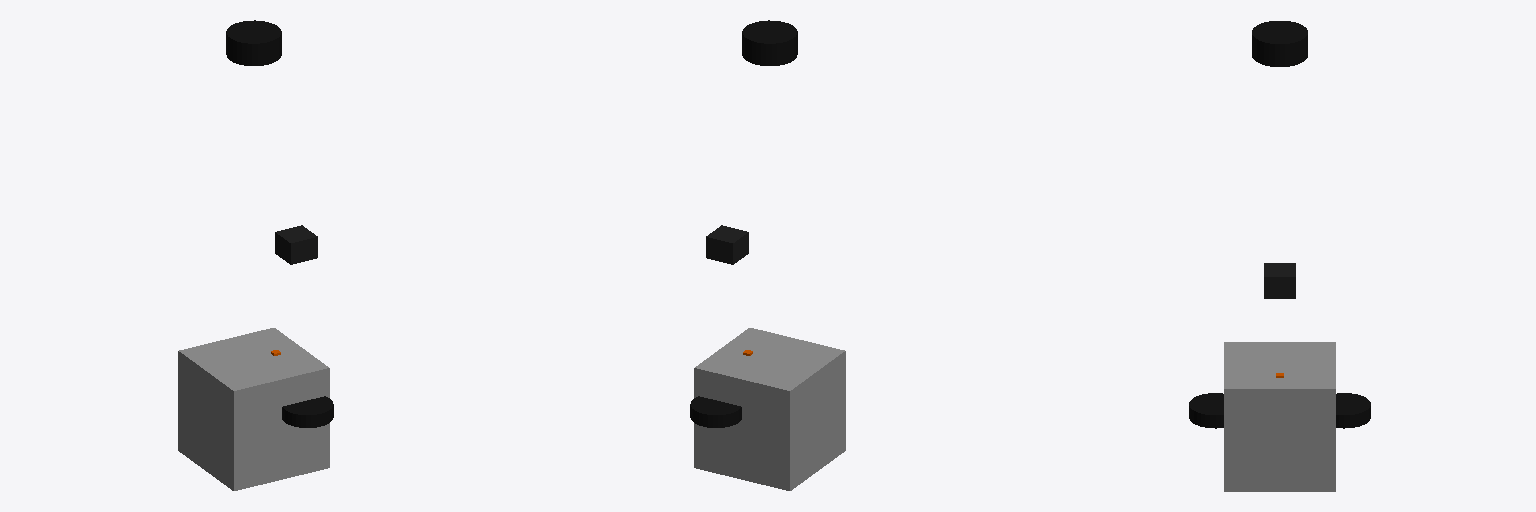
The robot description file, URDF, robot "turtlebot3_burger_bev":
<?xml version="1.0"?>
<!--
  TurtleBot3 Burger with a 6-camera BEV rig for autosim.

  Camera joints are fixed to base_link. xyz is meters (x forward, y left,
  z up). rpy yaw is about +Z, left positive. bev.yaml reads these mounts;
  it does not repeat them.

  Geometry and frames follow ROBOTIS turtlebot3_description (Humble):
  https://github.com/ROBOTIS-GIT/turtlebot3/tree/humble/turtlebot3_description

  Uses primitive shapes instead of package:// meshes so Habitat / CI can load
  without downloading STL assets. Swap in official meshes if needed for visuals.
-->
<robot name="turtlebot3_burger_bev">

  <!-- ===================== Links ===================== -->

  <link name="base_footprint"/>

  <link name="base_link">
    <visual>
      <origin xyz="-0.032 0 0.0" rpy="0 0 0"/>
      <geometry>
        <box size="0.14 0.14 0.14"/>
      </geometry>
      <material name="grey">
        <color rgba="0.6 0.6 0.6 1"/>
      </material>
    </visual>
    <collision>
      <origin xyz="-0.032 0 0.0" rpy="0 0 0"/>
      <geometry>
        <box size="0.14 0.14 0.14"/>
      </geometry>
    </collision>
    <inertial>
      <origin xyz="0 0 0" rpy="0 0 0"/>
      <mass value="1.0"/>
      <inertia ixx="0.01" ixy="0.0" ixz="0.0" iyy="0.01" iyz="0.0" izz="0.01"/>
    </inertial>
  </link>

  <link name="wheel_left_link">
    <visual>
      <origin xyz="0 0 0" rpy="1.57079632679 0 0"/>
      <geometry>
        <cylinder length="0.018" radius="0.033"/>
      </geometry>
      <material name="black">
        <color rgba="0.1 0.1 0.1 1"/>
      </material>
    </visual>
    <collision>
      <origin xyz="0 0 0" rpy="1.57079632679 0 0"/>
      <geometry>
        <cylinder length="0.018" radius="0.033"/>
      </geometry>
    </collision>
    <inertial>
      <origin xyz="0 0 0" rpy="0 0 0"/>
      <mass value="0.028"/>
      <inertia ixx="1.0e-05" ixy="0.0" ixz="0.0" iyy="1.0e-05" iyz="0.0" izz="2.0e-05"/>
    </inertial>
  </link>

  <link name="wheel_right_link">
    <visual>
      <origin xyz="0 0 0" rpy="1.57079632679 0 0"/>
      <geometry>
        <cylinder length="0.018" radius="0.033"/>
      </geometry>
      <material name="black">
        <color rgba="0.1 0.1 0.1 1"/>
      </material>
    </visual>
    <collision>
      <origin xyz="0 0 0" rpy="1.57079632679 0 0"/>
      <geometry>
        <cylinder length="0.018" radius="0.033"/>
      </geometry>
    </collision>
    <inertial>
      <origin xyz="0 0 0" rpy="0 0 0"/>
      <mass value="0.028"/>
      <inertia ixx="1.0e-05" ixy="0.0" ixz="0.0" iyy="1.0e-05" iyz="0.0" izz="2.0e-05"/>
    </inertial>
  </link>

  <link name="caster_back_link">
    <visual>
      <origin xyz="0 0 0" rpy="0 0 0"/>
      <geometry>
        <sphere radius="0.01"/>
      </geometry>
      <material name="grey">
        <color rgba="0.6 0.6 0.6 1"/>
      </material>
    </visual>
    <collision>
      <origin xyz="0 0 0" rpy="0 0 0"/>
      <geometry>
        <sphere radius="0.01"/>
      </geometry>
    </collision>
    <inertial>
      <mass value="0.005"/>
      <inertia ixx="1.0e-06" ixy="0.0" ixz="0.0" iyy="1.0e-06" iyz="0.0" izz="1.0e-06"/>
    </inertial>
  </link>

  <link name="imu_link">
    <visual>
      <origin xyz="0 0 0" rpy="0 0 0"/>
      <geometry>
        <box size="0.01 0.01 0.01"/>
      </geometry>
    </visual>
    <inertial>
      <mass value="0.001"/>
      <inertia ixx="1.0e-07" ixy="0.0" ixz="0.0" iyy="1.0e-07" iyz="0.0" izz="1.0e-07"/>
    </inertial>
  </link>

  <!-- LDS-01 2D lidar; frame matches common /scan conventions -->
  <link name="base_scan">
    <visual>
      <origin xyz="0 0 0.011" rpy="0 0 0"/>
      <geometry>
        <cylinder length="0.0315" radius="0.035"/>
      </geometry>
      <material name="black">
        <color rgba="0.1 0.1 0.1 1"/>
      </material>
    </visual>
    <collision>
      <origin xyz="0 0 0.011" rpy="0 0 0"/>
      <geometry>
        <cylinder length="0.0315" radius="0.035"/>
      </geometry>
    </collision>
    <inertial>
      <mass value="0.114"/>
      <inertia ixx="1.0e-04" ixy="0.0" ixz="0.0" iyy="1.0e-04" iyz="0.0" izz="1.0e-04"/>
    </inertial>
  </link>

  <!-- Alias frame for autosim default laser_link -->
  <link name="laser_link"/>

  <link name="camera_link">
    <visual>
      <origin xyz="0 0 0.015" rpy="0 0 0"/>
      <geometry>
        <box size="0.04 0.04 0.03"/>
      </geometry>
      <material name="black">
        <color rgba="0.15 0.15 0.15 1"/>
      </material>
    </visual>
    <collision>
      <origin xyz="0 0 0.015" rpy="0 0 0"/>
      <geometry>
        <box size="0.04 0.04 0.03"/>
      </geometry>
    </collision>
    <inertial>
      <mass value="0.08"/>
      <inertia ixx="1.0e-04" ixy="0.0" ixz="0.0" iyy="1.0e-04" iyz="0.0" izz="1.0e-04"/>
    </inertial>
  </link>

  <!-- ===================== Joints ===================== -->

  <joint name="base_joint" type="fixed">
    <parent link="base_footprint"/>
    <child link="base_link"/>
    <origin xyz="0 0 0.010" rpy="0 0 0"/>
  </joint>

  <!-- Wheel separation 0.160 m, radius 0.033 m (ROBOTIS Burger) -->
  <joint name="wheel_left_joint" type="continuous">
    <parent link="base_link"/>
    <child link="wheel_left_link"/>
    <origin xyz="0 0.08 0.023" rpy="-1.57079632679 0 0"/>
    <axis xyz="0 0 1"/>
  </joint>

  <joint name="wheel_right_joint" type="continuous">
    <parent link="base_link"/>
    <child link="wheel_right_link"/>
    <origin xyz="0 -0.08 0.023" rpy="-1.57079632679 0 0"/>
    <axis xyz="0 0 1"/>
  </joint>

  <joint name="caster_back_joint" type="fixed">
    <parent link="base_link"/>
    <child link="caster_back_link"/>
    <origin xyz="-0.081 0 -0.004" rpy="0 0 0"/>
  </joint>

  <joint name="imu_joint" type="fixed">
    <parent link="base_link"/>
    <child link="imu_link"/>
    <origin xyz="0 0 0.068" rpy="0 0 0"/>
  </joint>

  <joint name="scan_joint" type="fixed">
    <parent link="base_link"/>
    <child link="base_scan"/>
    <origin xyz="-0.032 0 0.5" rpy="0 0 0"/>
  </joint>

  <joint name="laser_joint" type="fixed">
    <parent link="base_scan"/>
    <child link="laser_link"/>
    <origin xyz="0 0 0" rpy="0 0 0"/>
  </joint>

  <joint name="camera_joint" type="fixed">
    <parent link="base_link"/>
    <child link="camera_link"/>
    <origin xyz="0.03 0 0.20" rpy="0 0 0"/>
  </joint>

  <!-- 6-camera ring, radius 0.4 m, height 1.2 m, 60° spacing. -->
  <link name="cam_front"/>
  <link name="cam_front_left"/>
  <link name="cam_rear_left"/>
  <link name="cam_rear"/>
  <link name="cam_rear_right"/>
  <link name="cam_front_right"/>

  <joint name="cam_front_joint" type="fixed">
    <parent link="base_link"/>
    <child link="cam_front"/>
    <origin xyz="0.40 0 1.20" rpy="0 0 0"/>
  </joint>
  <joint name="cam_front_left_joint" type="fixed">
    <parent link="base_link"/>
    <child link="cam_front_left"/>
    <origin xyz="0.20 0.34641016151 1.20" rpy="0 0 1.0471975512"/>
  </joint>
  <joint name="cam_rear_left_joint" type="fixed">
    <parent link="base_link"/>
    <child link="cam_rear_left"/>
    <origin xyz="-0.20 0.34641016151 1.20" rpy="0 0 2.09439510239"/>
  </joint>
  <joint name="cam_rear_joint" type="fixed">
    <parent link="base_link"/>
    <child link="cam_rear"/>
    <origin xyz="-0.40 0 1.20" rpy="0 0 3.14159265359"/>
  </joint>
  <joint name="cam_rear_right_joint" type="fixed">
    <parent link="base_link"/>
    <child link="cam_rear_right"/>
    <origin xyz="-0.20 -0.34641016151 1.20" rpy="0 0 4.18879020479"/>
  </joint>
  <joint name="cam_front_right_joint" type="fixed">
    <parent link="base_link"/>
    <child link="cam_front_right"/>
    <origin xyz="0.20 -0.34641016151 1.20" rpy="0 0 5.23598775598"/>
  </joint>

</robot>

--- What the picture shows (computed from the rendered views, not written in the file) ---
The picture shows the robot from 3 angles, left to right: view 1: azimuth 30°, elevation 25°; view 2: azimuth 150°, elevation 25°; view 3: azimuth 270°, elevation 25°; orthographic projection.
Model turtlebot3_burger_bev with 15 links and 14 joints (2 continuous, 12 fixed), rooted at base_footprint, posed all joints at 0.
Visible links, largest first — view 1: base_link, base_scan, camera_link, wheel_right_link; view 2: base_link, base_scan, camera_link, wheel_left_link; view 3: base_link, base_scan, camera_link, wheel_left_link, wheel_right_link.
Boxes of the visible links, x1,y1,x2,y2 form: base_link: (178,328,329,490); base_scan: (226,20,281,65); camera_link: (275,225,317,264); wheel_right_link: (282,396,333,427); base_link: (694,328,845,490); base_scan: (742,20,797,65); camera_link: (706,225,748,264); wheel_left_link: (690,396,741,427); base_link: (1224,342,1335,491); base_scan: (1252,21,1307,66); camera_link: (1264,263,1295,298); wheel_left_link: (1336,393,1370,428); wheel_right_link: (1189,393,1223,428).
Bounding box of the posed robot: 0.152 × 0.226 × 0.5968 m (x, y, z).
Geometry: primitives only (box / cylinder / sphere), no mesh files.
